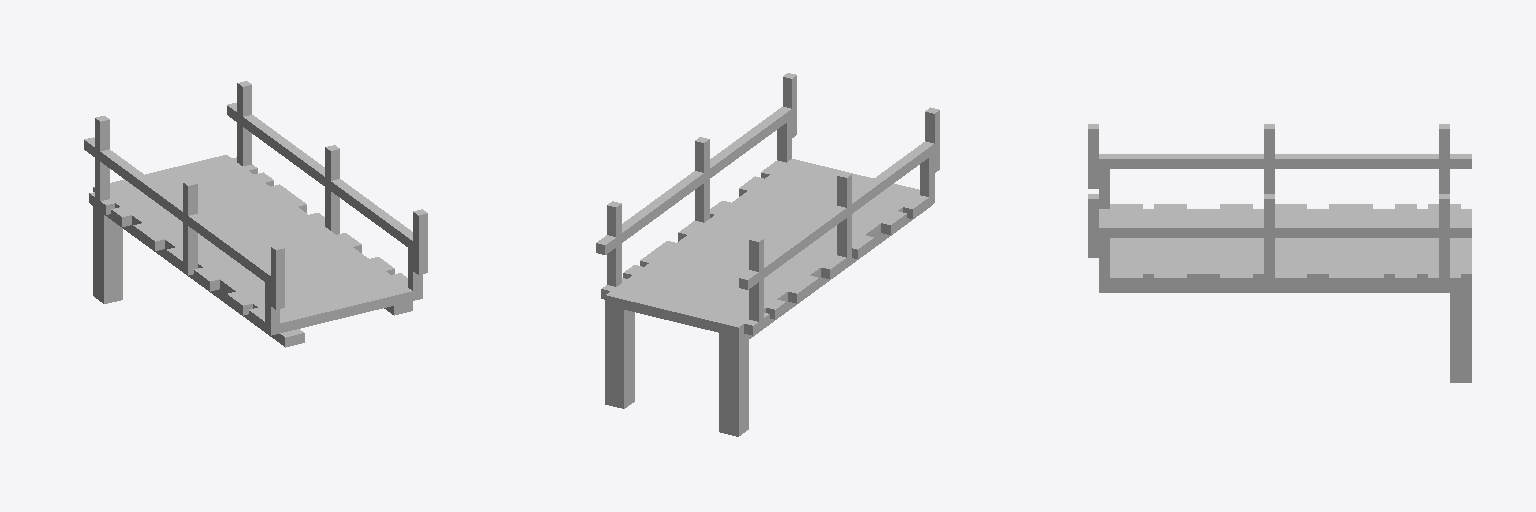
The model's file is Bridge.obj.
The picture shows the model from 3 angles: view 1: azimuth 30°, elevation 25°; view 2: azimuth 150°, elevation 25°; view 3: azimuth 270°, elevation 25°; orthographic projection.
Visible parts, largest first — view 1: Bridge; view 2: Bridge; view 3: Bridge.
Part boxes in pixels (x1,y1,x2,y2): Bridge: (84,81,427,347); Bridge: (596,73,939,436); Bridge: (1088,124,1471,382).
Size of the model in its own units: 16 by 19 by 35.